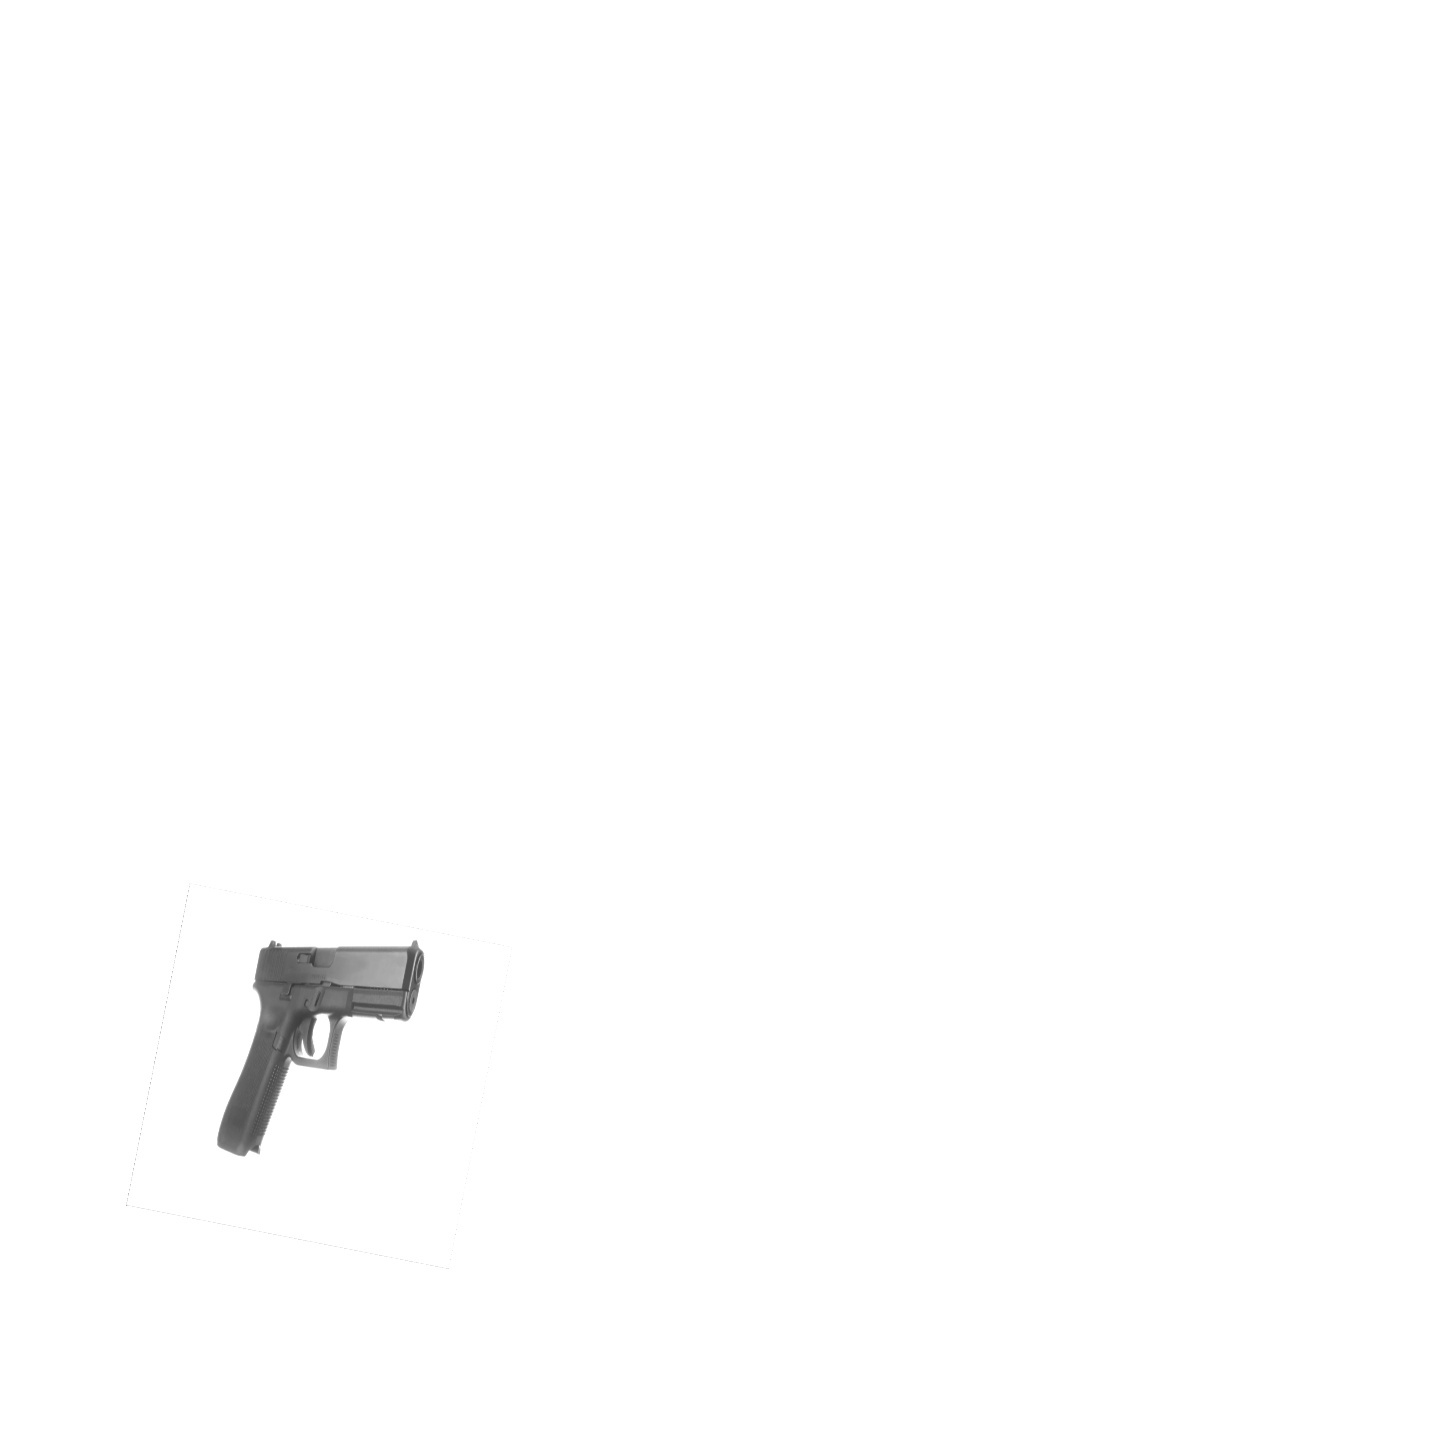gun: (211, 936, 432, 1164)
